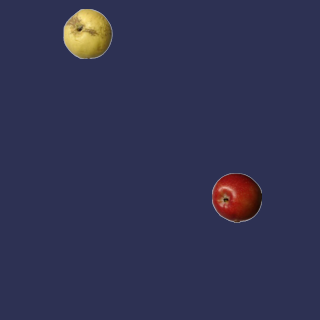Apple Braeburn: (211, 172, 261, 222)
Apple Golden 1: (62, 8, 112, 58)
